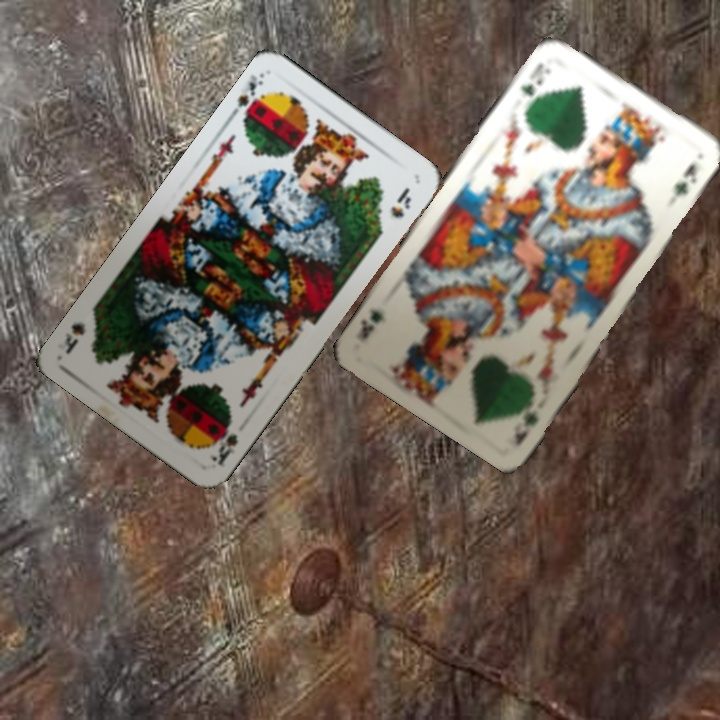GK: (511, 396, 541, 449), (517, 58, 554, 99)
SK: (226, 69, 268, 128), (205, 416, 241, 469)
